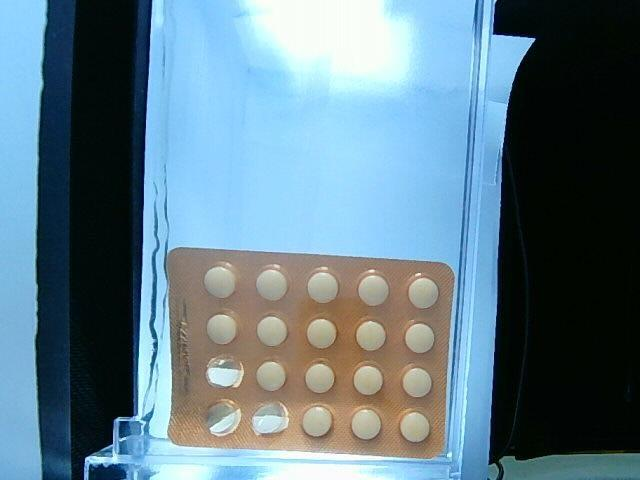Light Front: (164, 248, 455, 461)
No Pill Front: (206, 400, 241, 436), (206, 355, 243, 388), (253, 403, 289, 435)
Pill Front: (255, 265, 288, 301), (204, 264, 237, 299), (306, 268, 338, 304), (358, 270, 389, 306), (408, 274, 439, 309), (206, 314, 238, 345), (256, 315, 288, 346), (306, 318, 337, 349), (355, 320, 386, 351), (353, 364, 384, 395), (351, 408, 381, 440), (404, 323, 435, 353), (401, 368, 432, 398), (305, 363, 335, 394), (303, 406, 333, 437), (400, 411, 430, 442), (256, 361, 286, 391)
